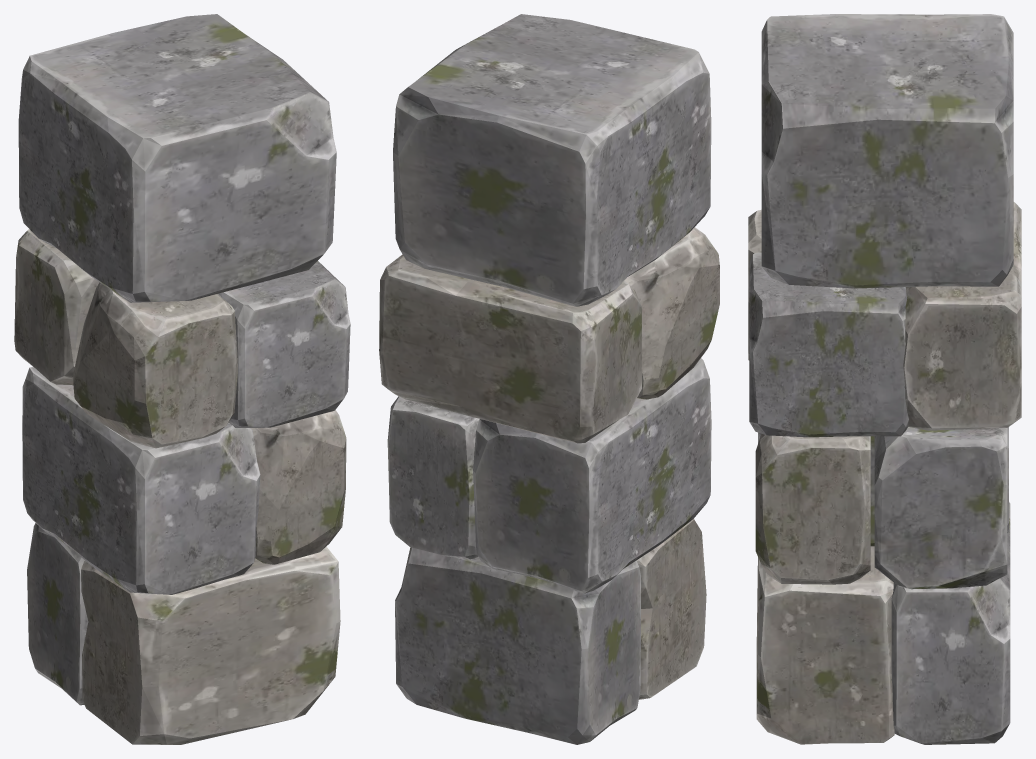
3 renders of one model, left to right at view 1: azimuth 30°, elevation 25°; view 2: azimuth 150°, elevation 25°; view 3: azimuth 270°, elevation 25°, orthographic. The views are drawn at different scales.
Parts seen in each view (by area): view 1: SM_BB_T3_Beam_Thick_Med_Vertical_LOD0; view 2: SM_BB_T3_Beam_Thick_Med_Vertical_LOD0; view 3: SM_BB_T3_Beam_Thick_Med_Vertical_LOD0.
Part boxes in pixels (bbox=[...]): SM_BB_T3_Beam_Thick_Med_Vertical_LOD0: bbox=[14, 14, 350, 744]; SM_BB_T3_Beam_Thick_Med_Vertical_LOD0: bbox=[379, 14, 719, 744]; SM_BB_T3_Beam_Thick_Med_Vertical_LOD0: bbox=[748, 14, 1021, 744].
Size of the model in its own units: 0.5562 by 1.52 by 0.5918.
Materials: 1 (1 with a texture image).
